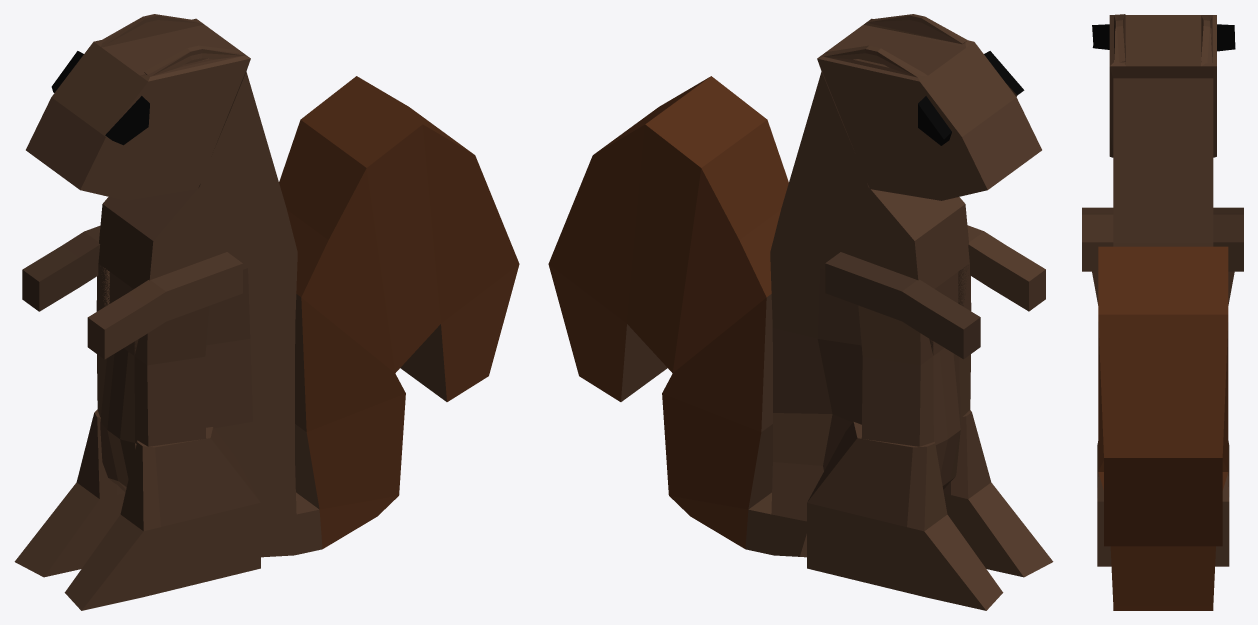
The model's file is Ardillarevision(ahoraSi).fbx.
3 renders of one model, left to right at view 1: azimuth 30°, elevation 25°; view 2: azimuth 150°, elevation 25°; view 3: azimuth 270°, elevation 25°, orthographic.
Visible parts, largest first — view 1: Cuerpo, Patas, Mano2, Mano1; view 2: Cuerpo, Patas, Mano1, Mano2; view 3: Cuerpo, Patas, Mano2, Mano1.
Boxes of the visible parts, <box> form: Cuerpo: <box>26,14,519,557</box>; Patas: <box>14,409,260,610</box>; Mano2: <box>87,252,242,359</box>; Mano1: <box>22,225,100,311</box>; Cuerpo: <box>548,14,1041,557</box>; Patas: <box>807,410,1053,610</box>; Mano1: <box>825,252,980,359</box>; Mano2: <box>967,225,1045,311</box>; Cuerpo: <box>1092,14,1235,610</box>; Patas: <box>1097,441,1229,566</box>; Mano2: <box>1082,207,1113,271</box>; Mano1: <box>1213,207,1243,271</box>.
Bounding box in the file's own units: 325 × 372 × 105.
